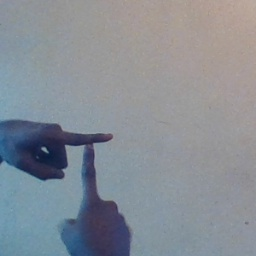T: (32, 117, 132, 234)
